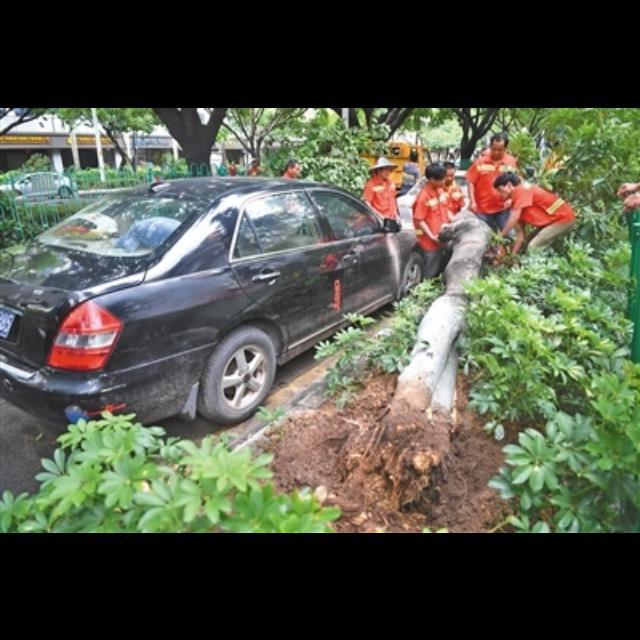fallen_tree: (341, 215, 483, 495)
